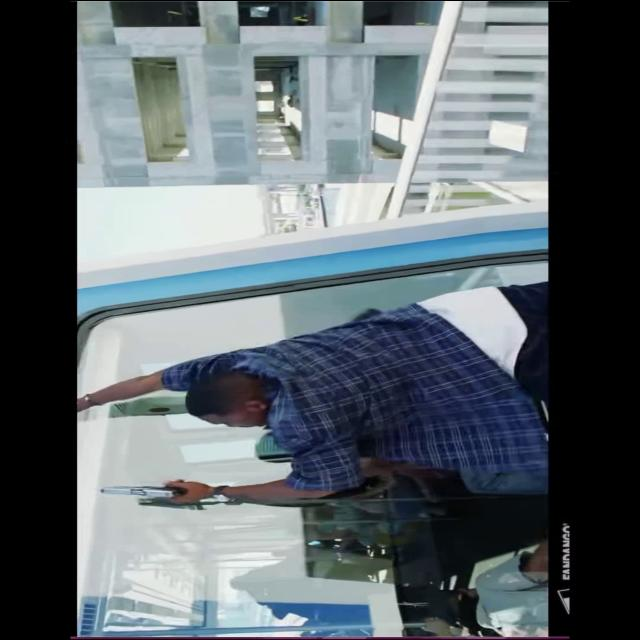weapons: (84, 474, 222, 503)
